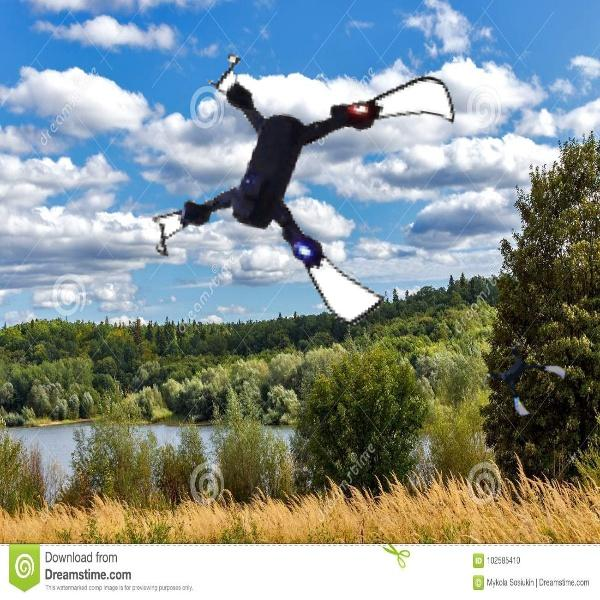drone: (159, 34, 449, 324), (488, 341, 562, 415)
